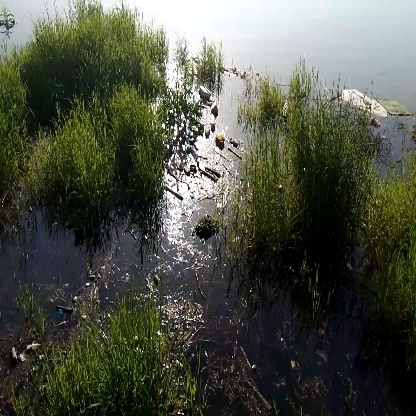plastic-bag: (341, 81, 391, 122)
